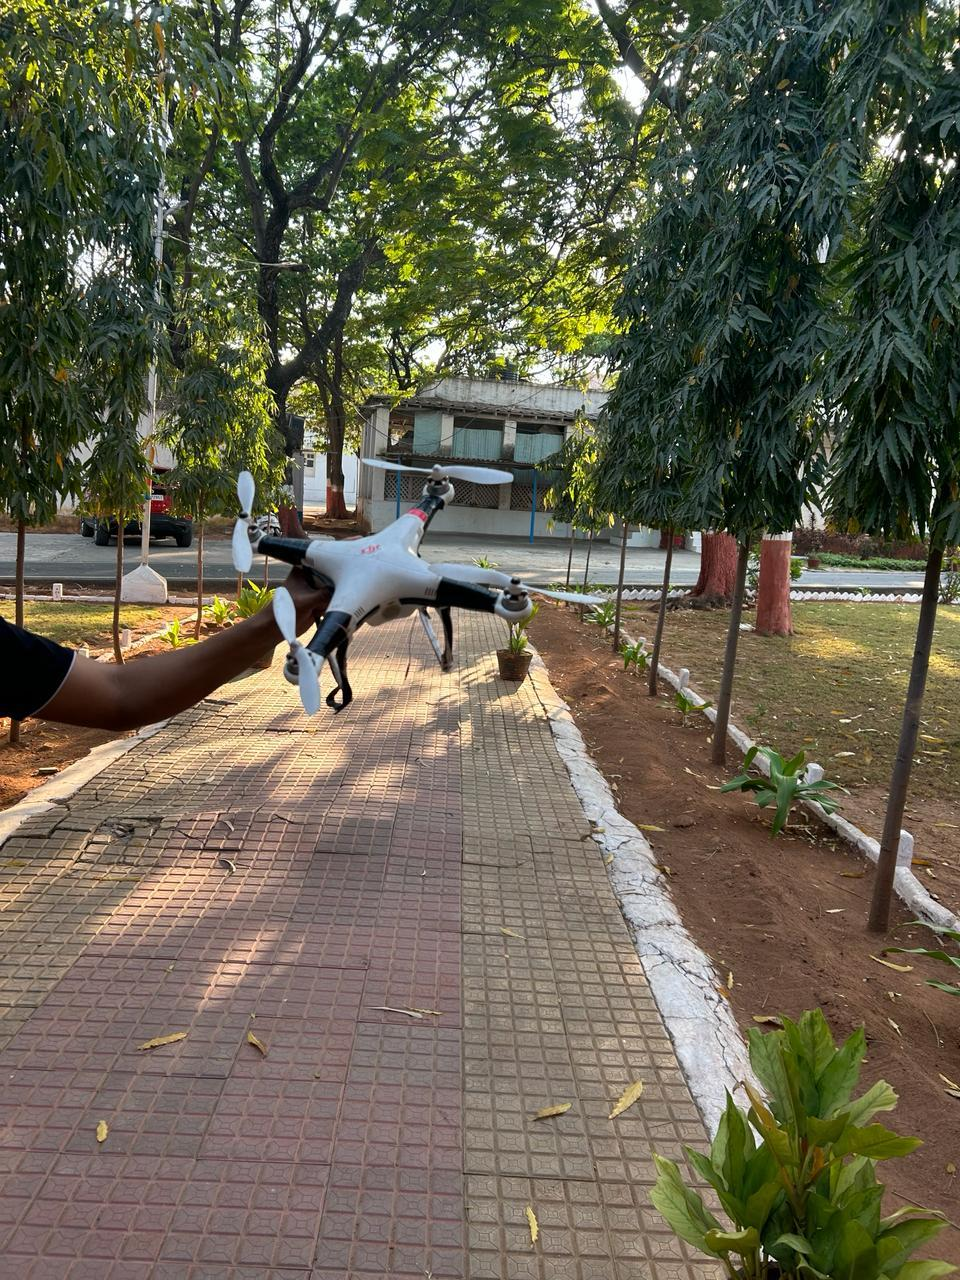drone: (217, 417, 575, 725)
